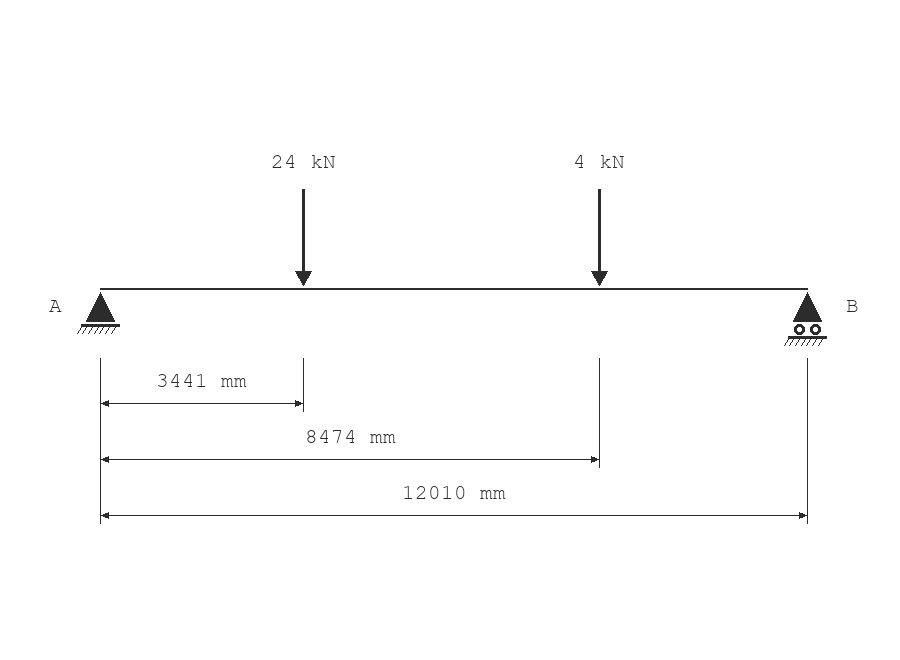pin_support: (77, 292, 120, 334)
point_load: (295, 189, 312, 286), (591, 189, 608, 286)
roller_support: (784, 292, 827, 346)
